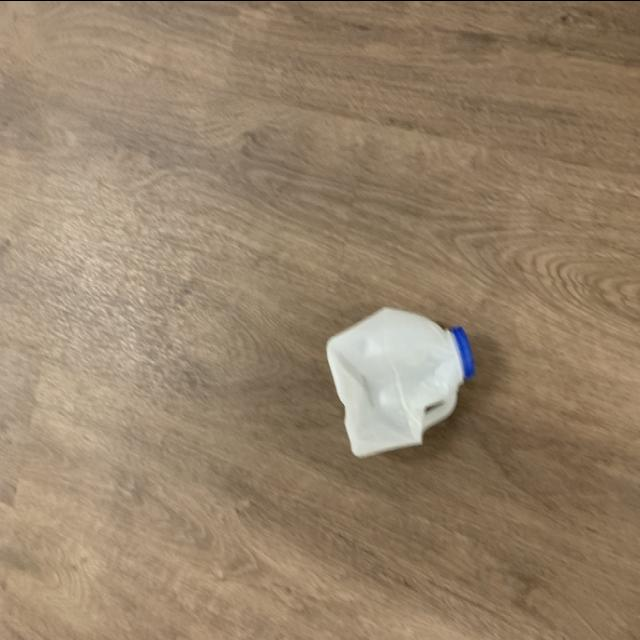litter: (320, 300, 480, 460)
